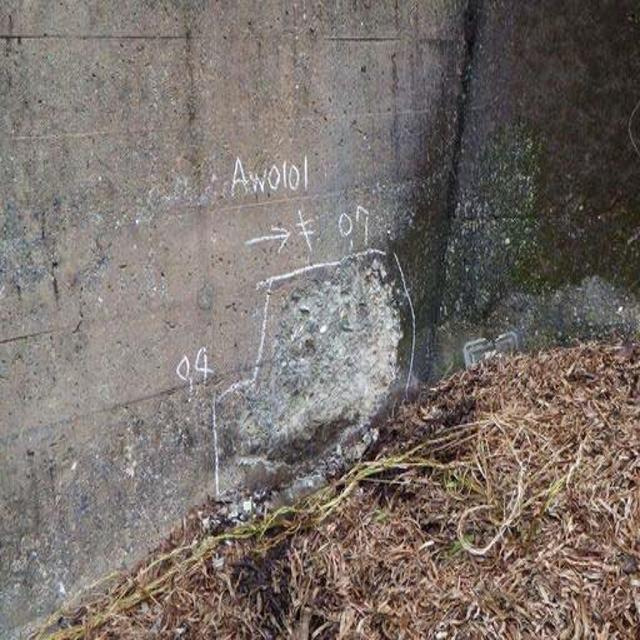spalling: (184, 252, 420, 487)
